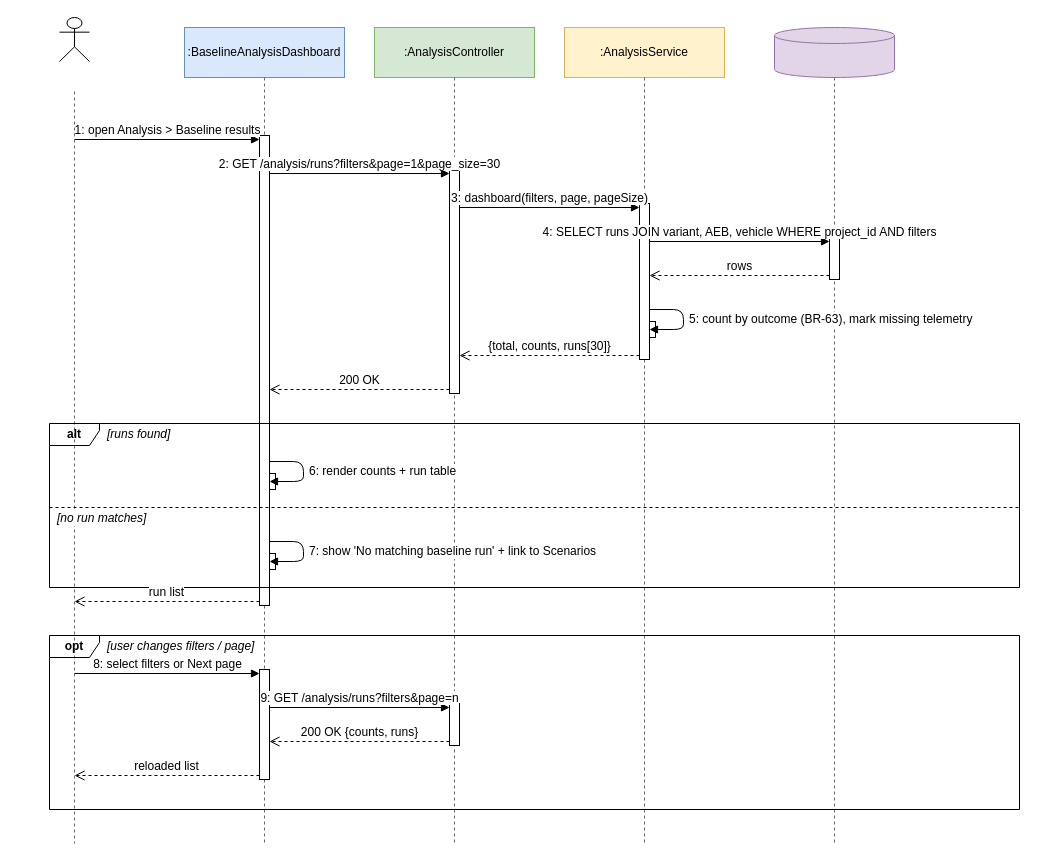
Image size: 1038x862. Some labels were removed from this diagram. Each missing label, with the centre of its shape:
"Engineer / Reviewer / Experiencer" belongs at [74,39].
"MySQL" belongs at [834,52].
